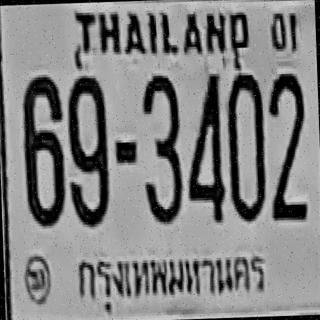N00: (226, 71, 266, 221)
N02: (266, 70, 308, 220)
N03: (140, 72, 184, 222)
N04: (183, 71, 225, 221)
N06: (20, 74, 65, 226)
N09: (66, 72, 109, 228)
P04: (71, 248, 269, 302)
